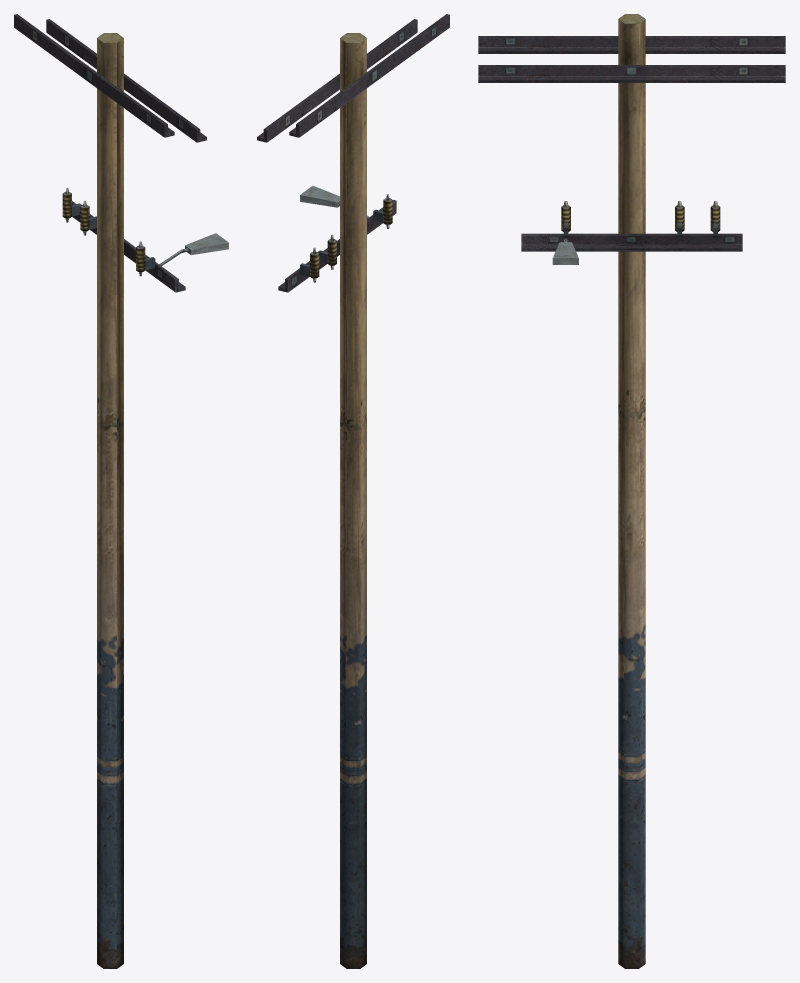
Rendered from Prop_Dxg01.glb.
3 renders of one model, left to right at view 1: azimuth 30°, elevation 25°; view 2: azimuth 150°, elevation 25°; view 3: azimuth 270°, elevation 25°, orthographic. The views are drawn at different scales.
Parts seen in each view (by area): view 1: xiutz_dxg_01; view 2: xiutz_dxg_01; view 3: xiutz_dxg_01.
Boxes of the visible parts, x1,y1,x2,y2 form: xiutz_dxg_01: (14, 14, 228, 968); xiutz_dxg_01: (257, 14, 449, 968); xiutz_dxg_01: (478, 14, 785, 968).
Bounding box in the file's own units: 1.1 × 9.71 × 2.86.
Materials: 1 (1 with a texture image).
